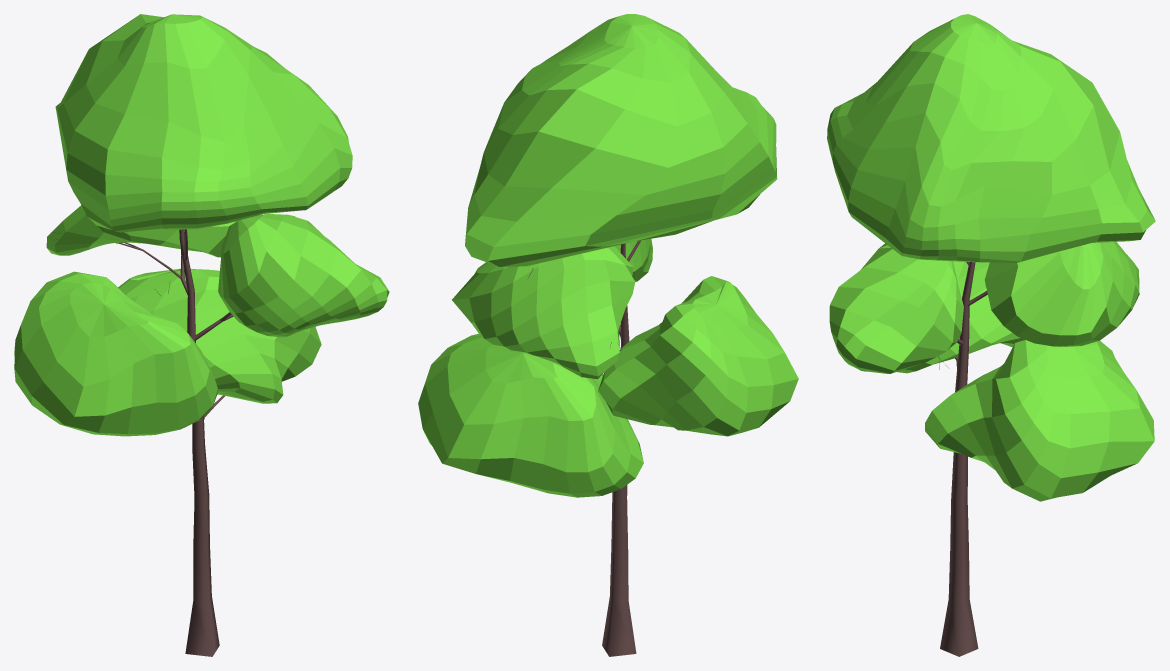
File: ProjectTurtalTrees.fbx
The picture shows the model from 3 angles, left to right: view 1: azimuth 30°, elevation 25°; view 2: azimuth 150°, elevation 25°; view 3: azimuth 270°, elevation 25°; orthographic projection. The views are drawn at different scales.
Visible parts, largest first — view 1: tree.002; view 2: tree.002; view 3: tree.002.
Boxes of the visible parts, x1,y1,x2,y2 form: tree.002: (14, 14, 389, 656); tree.002: (418, 14, 798, 656); tree.002: (827, 14, 1155, 656).
Size of the model in its own units: 745 by 1439 by 696.
